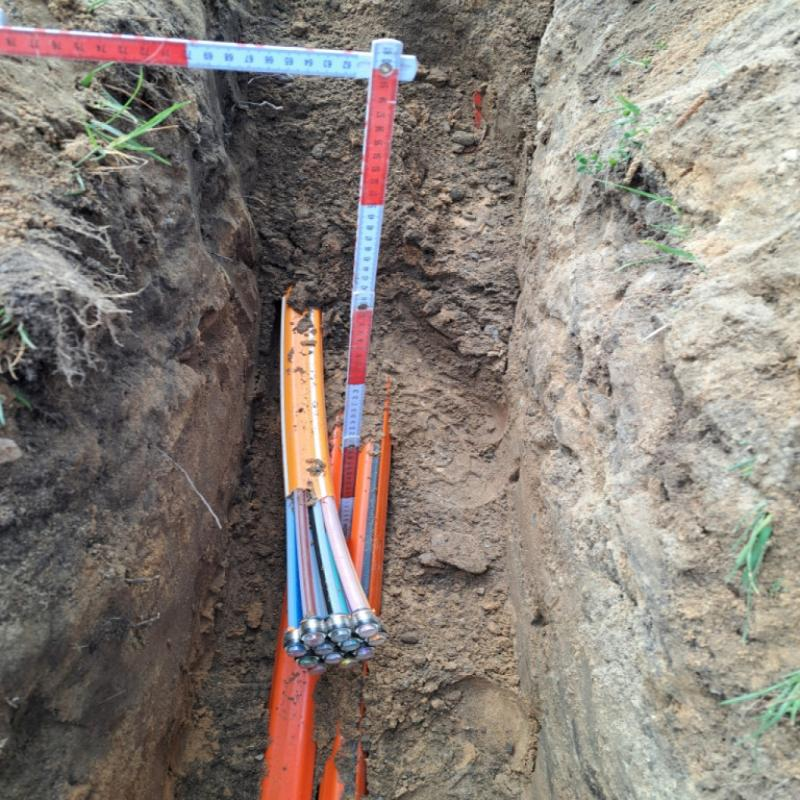Orang-Speednetrohrchen: (279, 306, 393, 676), (262, 652, 319, 800), (350, 441, 389, 609)
